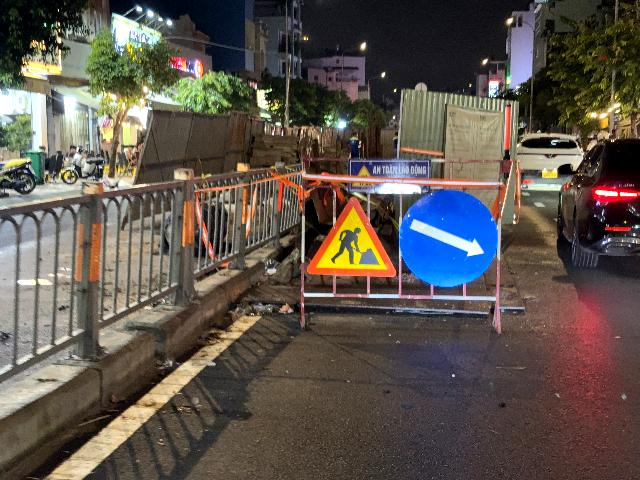cong-truong-dang-thi-cong: (306, 195, 397, 277)
huong-phai-di-vong-chuong-ngai-vat: (399, 189, 498, 287)
